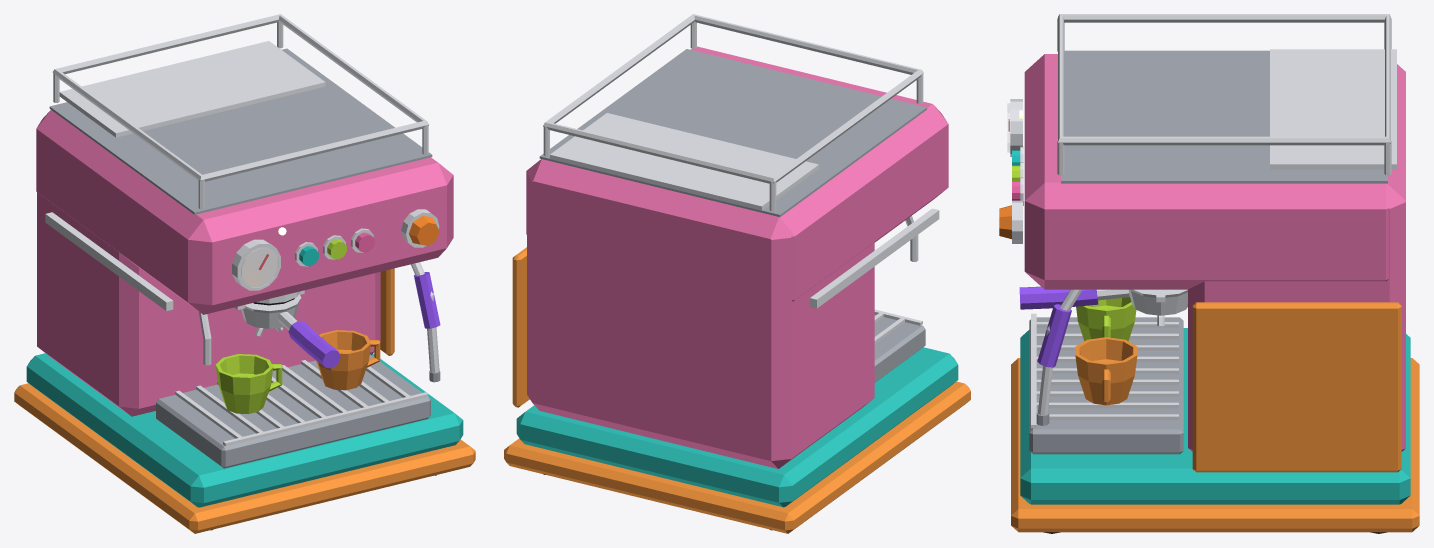
3 renders of one model, left to right at view 1: azimuth 30°, elevation 25°; view 2: azimuth 150°, elevation 25°; view 3: azimuth 270°, elevation 25°, orthographic. The views are drawn at different scales.
Visible parts, largest first — view 1: body_head, body_column, cup_warmer, plinth, drip_tray, skirt, tank_lid, cup_rail, cup_lime_body, cup_orange_body, trim_left, gauge_bezel (+9 smaller); view 2: body_column, body_head, cup_warmer, plinth, skirt, tank_lid, cup_rail, side_panel_right, trim_left, drip_tray; view 3: body_head, side_panel_right, cup_warmer, plinth, skirt, tank_lid, drip_tray, body_column, cup_rail, cup_orange_body, cup_lime_body, portafilter_basket (+10 smaller).
Boxes of the visible parts, bbox=[...] form: body_head: bbox=[36, 110, 453, 314]; body_column: bbox=[37, 113, 380, 416]; cup_warmer: bbox=[49, 48, 432, 214]; plinth: bbox=[26, 353, 463, 507]; drip_tray: bbox=[156, 354, 430, 468]; skirt: bbox=[14, 383, 475, 533]; tank_lid: bbox=[59, 41, 325, 137]; cup_rail: bbox=[52, 14, 429, 181]; cup_lime_body: bbox=[215, 354, 273, 413]; cup_orange_body: bbox=[316, 330, 370, 390]; trim_left: bbox=[45, 212, 173, 310]; gauge_bezel: bbox=[232, 239, 280, 290]; body_column: bbox=[527, 163, 874, 468]; body_head: bbox=[526, 46, 948, 301]; cup_warmer: bbox=[539, 49, 926, 216]; plinth: bbox=[516, 347, 958, 507]; skirt: bbox=[504, 381, 970, 533]; tank_lid: bbox=[550, 113, 818, 210]; cup_rail: bbox=[543, 14, 923, 183]; side_panel_right: bbox=[512, 247, 529, 407]; trim_left: bbox=[810, 208, 939, 308]; drip_tray: bbox=[874, 315, 925, 382]; body_head: bbox=[1024, 54, 1405, 289]; side_panel_right: bbox=[1192, 302, 1401, 472]; cup_warmer: bbox=[1061, 50, 1387, 183]; plinth: bbox=[1020, 328, 1410, 504]; skirt: bbox=[1011, 358, 1419, 532]; tank_lid: bbox=[1270, 49, 1396, 169]; drip_tray: bbox=[1029, 317, 1183, 454]; body_column: bbox=[1188, 187, 1405, 451]; cup_rail: bbox=[1058, 14, 1390, 145]; cup_orange_body: bbox=[1075, 337, 1137, 405]; cup_lime_body: bbox=[1076, 297, 1136, 341]; portafilter_basket: bbox=[1129, 289, 1187, 315].
Bounding box in the file's own units: 0.41 × 0.4743 × 0.463.
